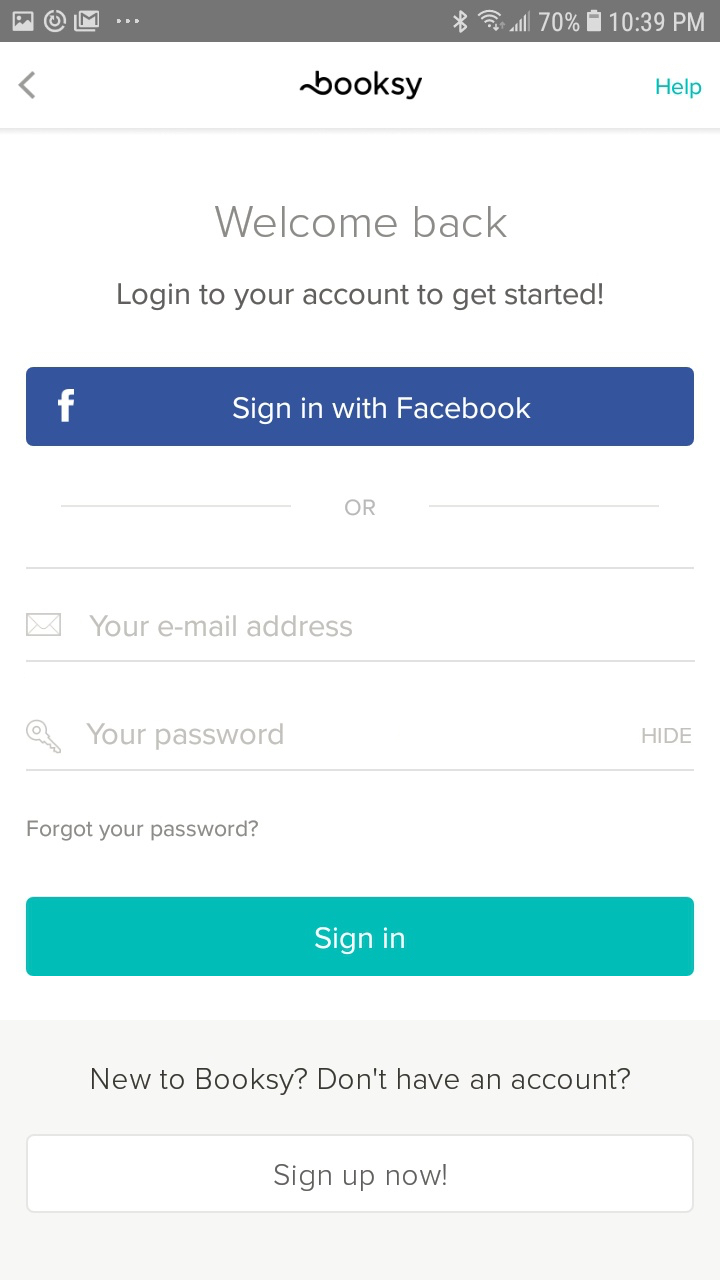EditText: (27, 719, 695, 772), (26, 613, 696, 663)
Icon: (26, 613, 62, 637), (19, 72, 37, 101)
Image: (300, 71, 423, 101), (27, 719, 63, 754)
Text: (93, 1068, 631, 1096), (118, 282, 603, 311), (215, 206, 508, 239), (89, 615, 353, 638), (87, 723, 284, 751), (27, 820, 259, 842), (656, 78, 702, 100), (642, 727, 692, 744), (345, 498, 376, 516)
TextButton: (26, 1133, 694, 1213), (26, 897, 694, 977), (27, 367, 695, 447)
UpperTaskBar: (1, 1, 720, 43)
